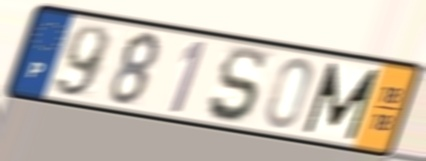0: (263, 55, 315, 132)
1: (168, 39, 209, 115)
8: (107, 29, 164, 107)
9: (51, 22, 116, 98)
M: (300, 60, 382, 143)
S: (205, 44, 268, 126)
